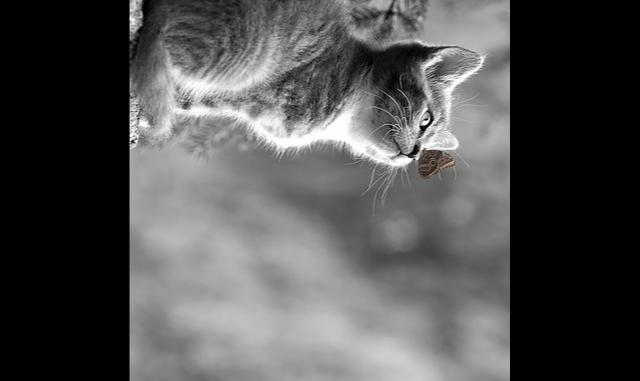cat: (131, 0, 487, 213)
